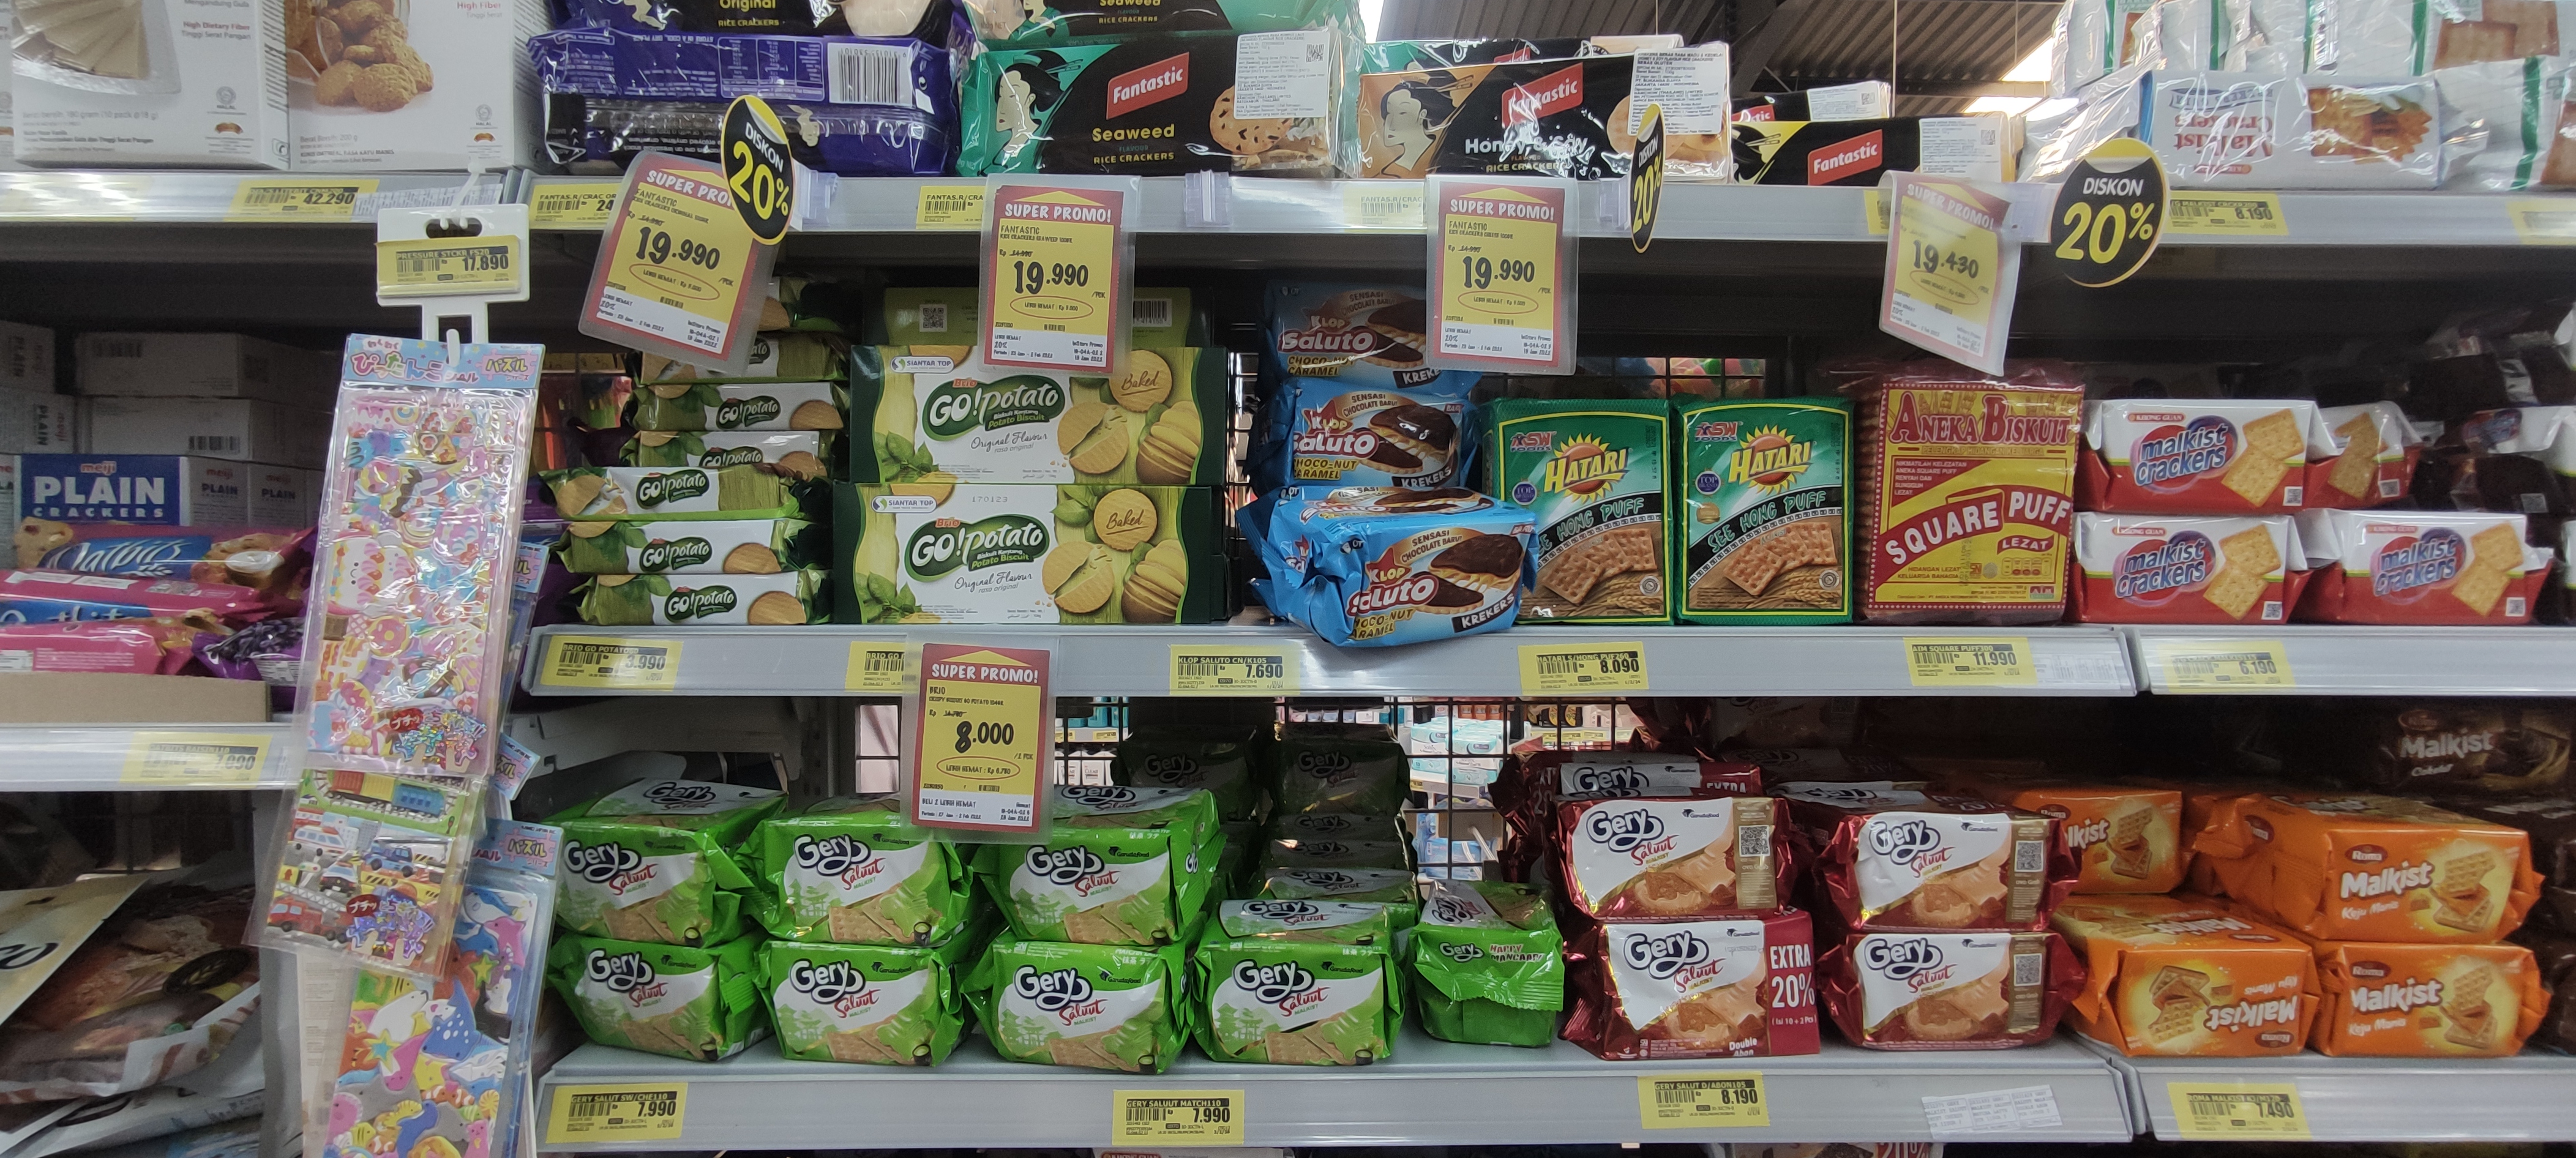90101225212100: (994, 782, 1222, 944), (544, 772, 752, 944), (1201, 894, 1403, 1061), (968, 943, 1189, 1071), (752, 943, 964, 1061), (751, 816, 963, 933), (539, 944, 746, 1056)
90101225226101: (1791, 780, 2047, 930), (1825, 925, 2057, 1048)
AnekaBiskuitSquarePuff: (1873, 386, 2090, 619)
FantasticHoney&Soy: (1359, 36, 1725, 182)
FantasticSeaweed: (966, 31, 1332, 176)
HatariSeeHongPuff: (1676, 397, 1855, 627), (1495, 396, 1674, 624)
KlopSlutoChocoNutCaramel: (1232, 486, 1538, 642), (1281, 383, 1472, 483)
KongGuanMalkistCrackers: (2088, 401, 2318, 512), (2072, 512, 2302, 624), (2305, 514, 2533, 624)
RomaMalkistKeju: (2054, 913, 2323, 1068), (2326, 946, 2545, 1059), (2313, 825, 2532, 938)
SiantaTopGoPotatoOriginal: (835, 486, 1216, 632), (846, 347, 1230, 485)
id tidak ada: (1577, 917, 1825, 1053), (1552, 798, 1801, 912)
